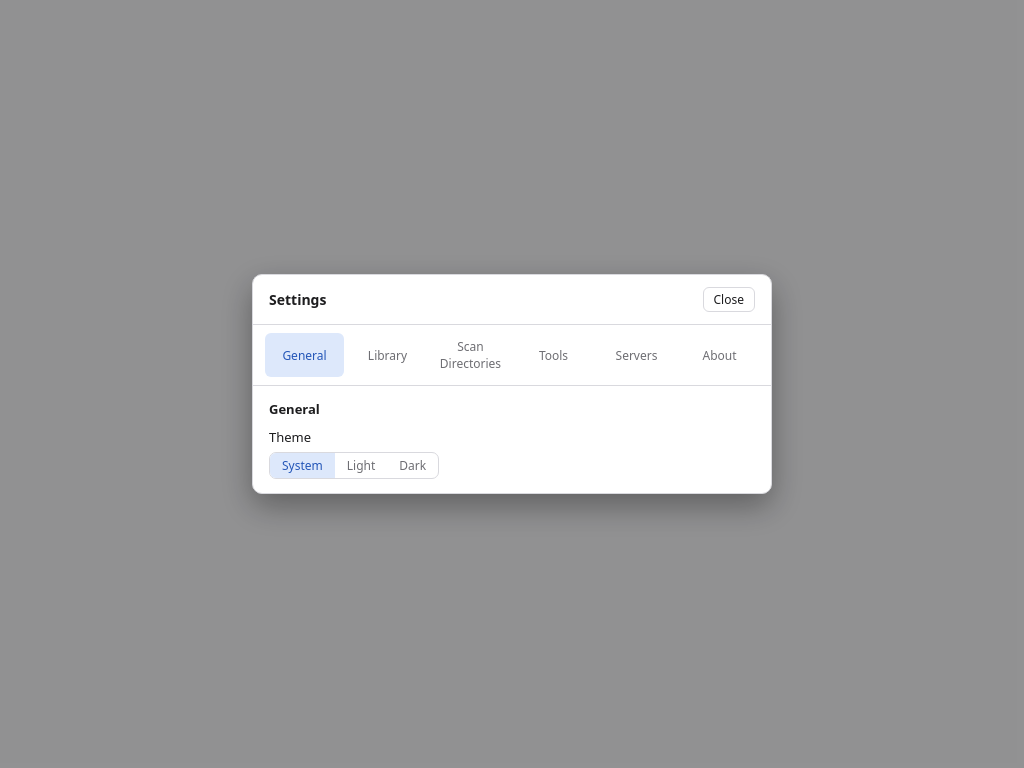
Test: SettingsSheet (T16 part A) › blocks duplicate roots locally
Click the button "Scan Directories" at (470, 355), box [431, 333, 510, 377]
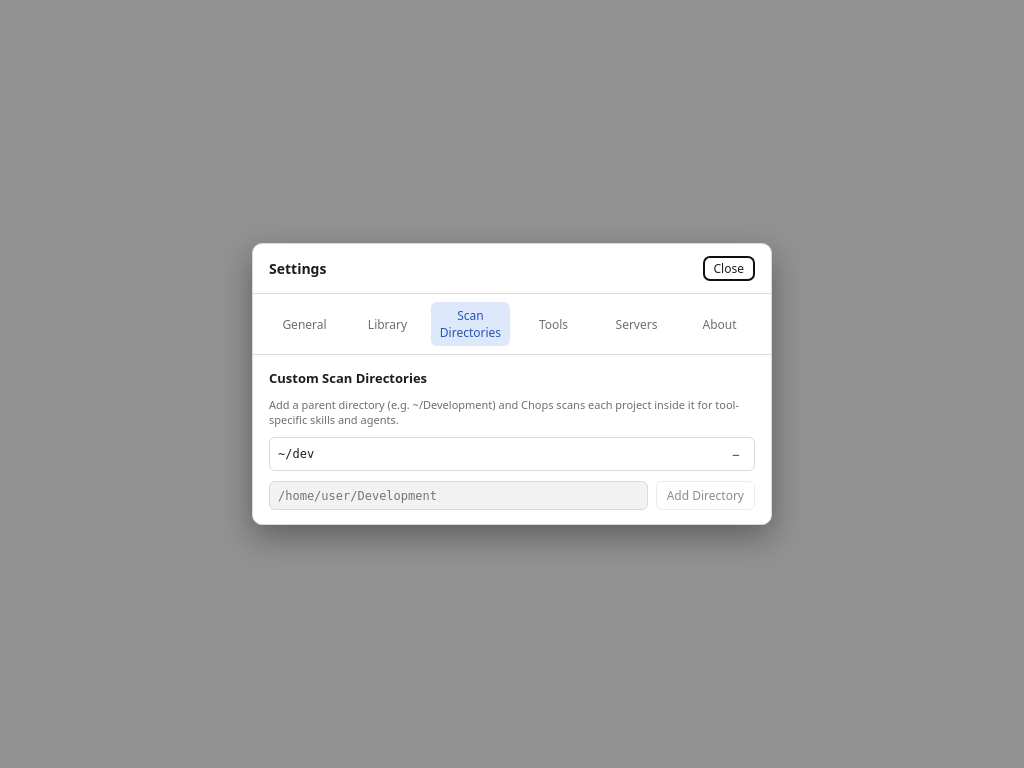
Type "/home/test/dev" into the field named "Add directory" at (458, 496), box [269, 481, 648, 510]
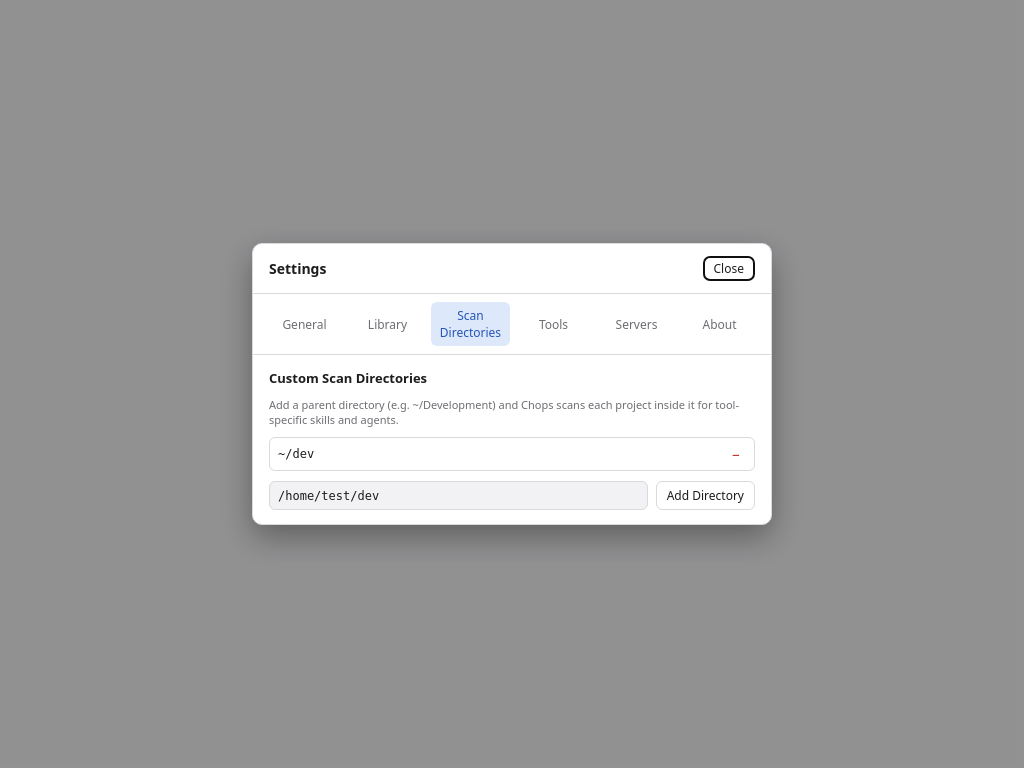
Click the button "Add Directory" at (705, 496), box [656, 481, 755, 510]
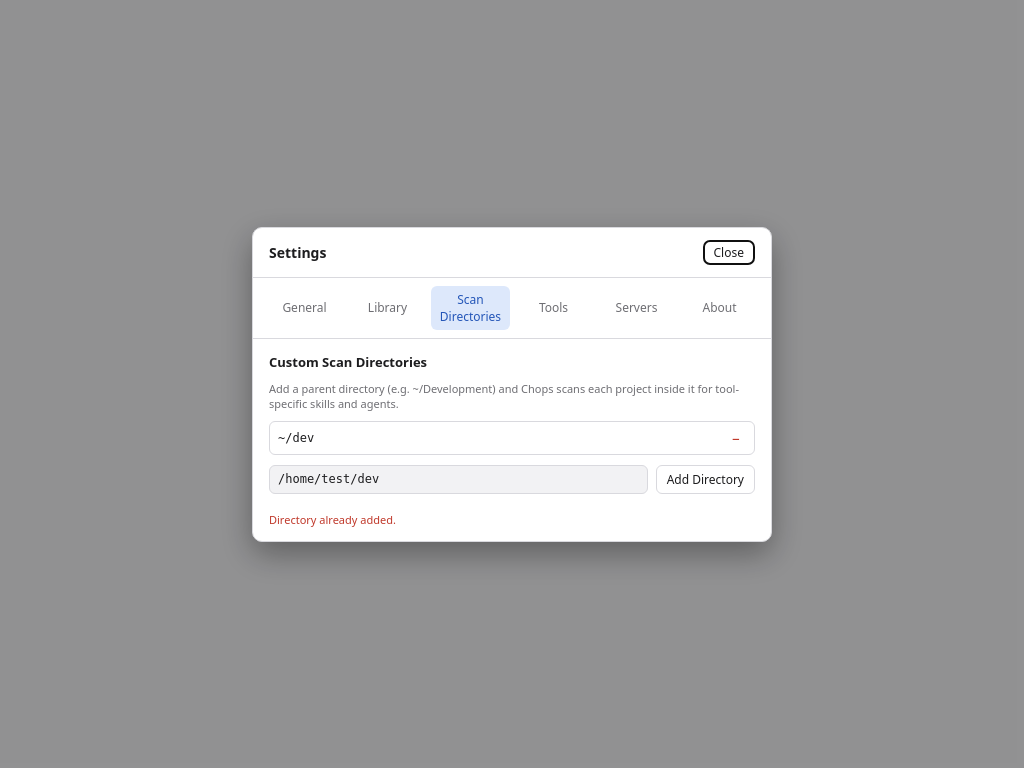
Result: the text "Directory already added." is shown at [269, 512, 396, 526]
